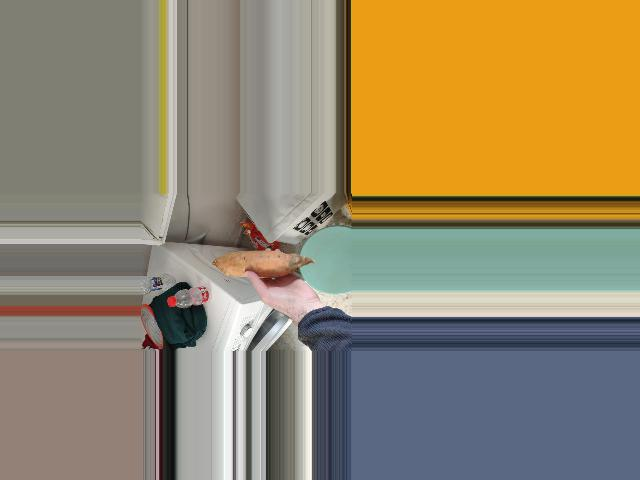sweet_potato: (215, 252, 302, 275)
